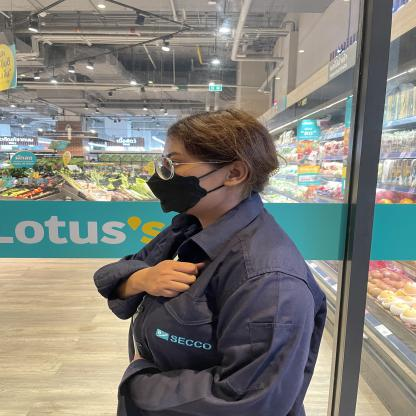Sadness: (84, 238, 233, 317)
